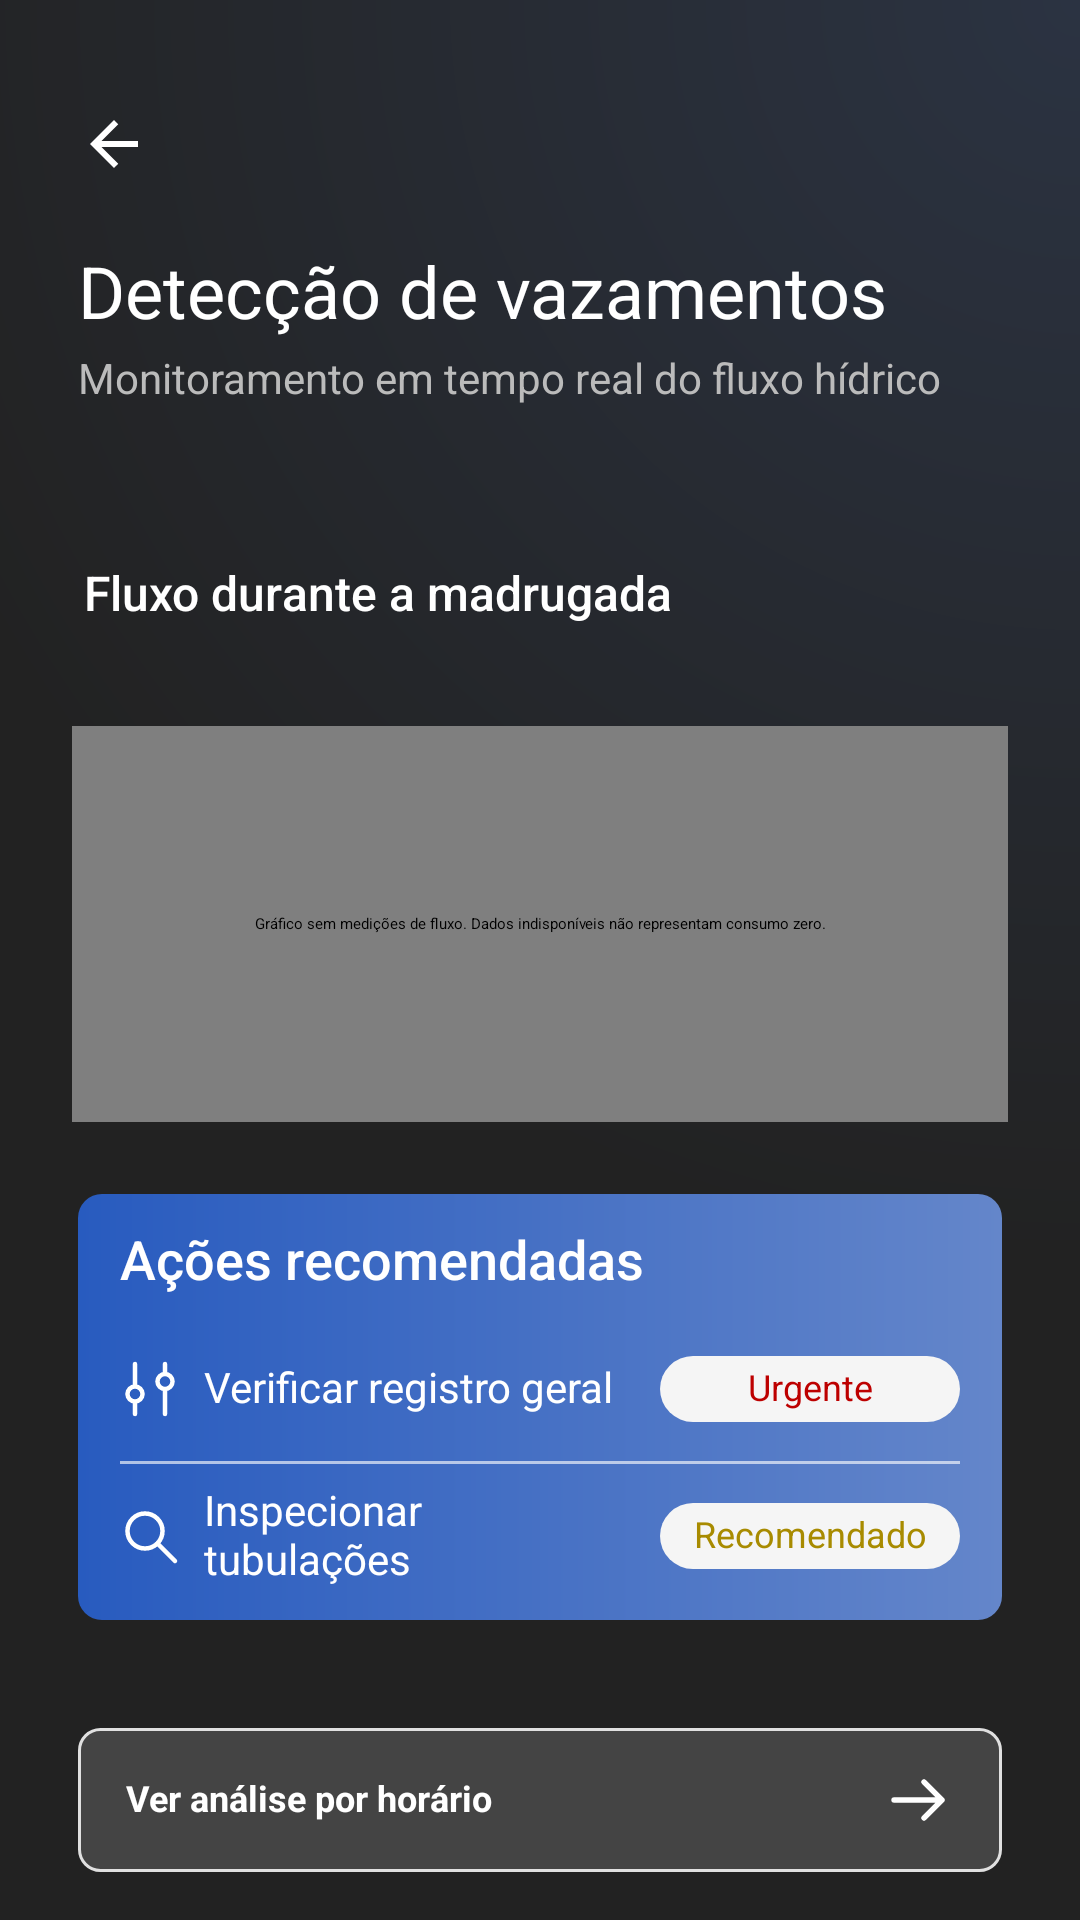

Icons on this 1080 x 1920 Android screen, each with the point to tap as [x,y]:
leak arrow: [918,1800]
leak search: [151,1537]
Voltar: [114,144]
